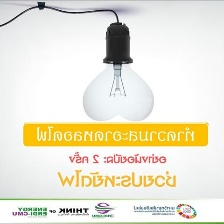light_bulb: (76, 43, 160, 122)
